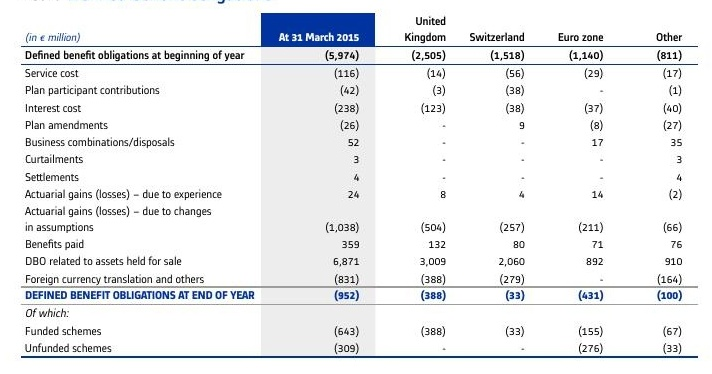table: (0, 0, 712, 374)
